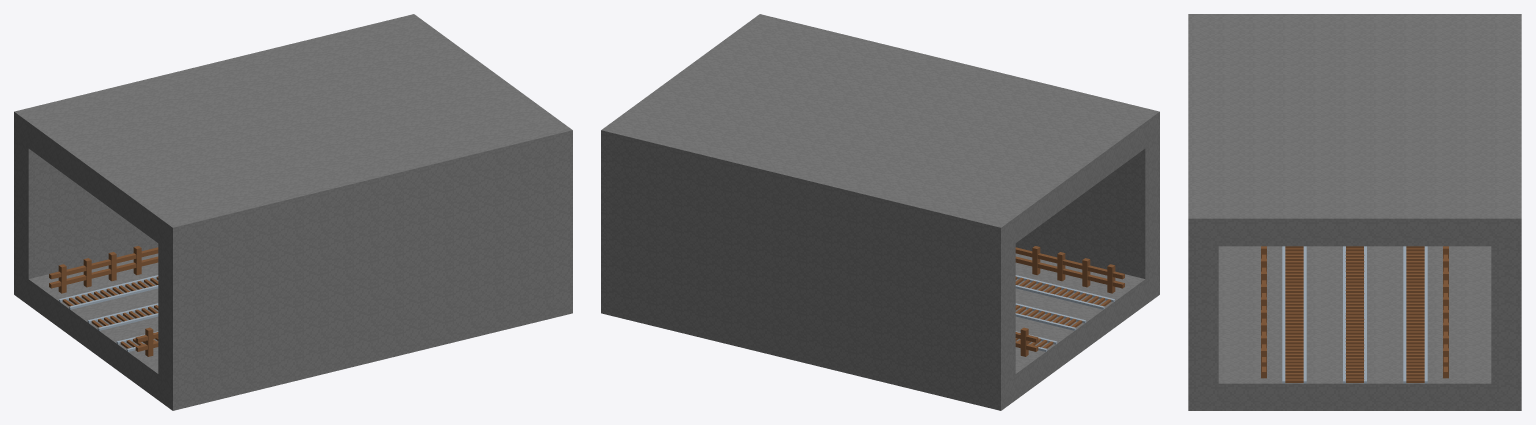
Rendered from level.fbx.
The picture shows the model from 3 angles, left to right: view 1: azimuth 30°, elevation 25°; view 2: azimuth 150°, elevation 25°; view 3: azimuth 270°, elevation 25°; orthographic projection. The views are drawn at different scales.
Parts seen in each view (by area): view 1: Cube.450, Cube.442, Cube.466, Cube.479, Cube.426, Cube.461, Cube.445, Cube.421, Cube.429, Cube.453, Cube.458, Cube.180 (+130 smaller); view 2: Cube.437, Cube.421, Cube.445, Cube.484, Cube.426, Cube.461, Cube.442, Cube.458, Cube.466, Cube.429, Cube.434, Cube.227 (+130 smaller); view 3: Cube.191, Cube.216, Cube.380, Cube.383, Cube.001, Cube.002, Cube.007, Cube.009, Cube.375, Cube.376, Cube.377, Cube.378 (+243 smaller).
Part boxes in pixels (bbox=[...]): Cube.450: bbox=[158, 211, 197, 253]; Cube.442: bbox=[14, 164, 53, 200]; Cube.466: bbox=[158, 348, 197, 384]; Cube.479: bbox=[158, 374, 197, 410]; Cube.426: bbox=[14, 190, 53, 226]; Cube.461: bbox=[158, 296, 197, 332]; Cube.445: bbox=[158, 270, 197, 306]; Cube.421: bbox=[14, 242, 53, 278]; Cube.429: bbox=[14, 216, 53, 252]; Cube.453: bbox=[158, 243, 197, 279]; Cube.458: bbox=[158, 322, 197, 358]; Cube.180: bbox=[333, 168, 372, 210]; Cube.437: bbox=[976, 211, 1015, 253]; Cube.421: bbox=[976, 348, 1015, 384]; Cube.445: bbox=[1120, 164, 1159, 200]; Cube.484: bbox=[976, 374, 1015, 410]; Cube.426: bbox=[976, 296, 1015, 332]; Cube.461: bbox=[1120, 190, 1159, 226]; Cube.442: bbox=[976, 270, 1015, 306]; Cube.458: bbox=[1120, 216, 1159, 252]; Cube.466: bbox=[1120, 242, 1159, 278]; Cube.429: bbox=[976, 322, 1015, 358]; Cube.434: bbox=[976, 243, 1015, 279]; Cube.227: bbox=[801, 168, 840, 210]; Cube.191: bbox=[1188, 206, 1218, 246]; Cube.216: bbox=[1491, 206, 1521, 246]; Cube.380: bbox=[1279, 206, 1309, 246]; Cube.383: bbox=[1400, 206, 1430, 246]; Cube.001: bbox=[1370, 370, 1400, 410]; Cube.002: bbox=[1309, 370, 1339, 410]; Cube.007: bbox=[1218, 370, 1248, 410]; Cube.009: bbox=[1461, 370, 1491, 410]; Cube.375: bbox=[1461, 206, 1491, 246]; Cube.376: bbox=[1430, 206, 1460, 246]; Cube.377: bbox=[1218, 206, 1248, 246]; Cube.378: bbox=[1249, 206, 1279, 246].
Size of the model in its own units: 3200 by 1400 by 2200.
